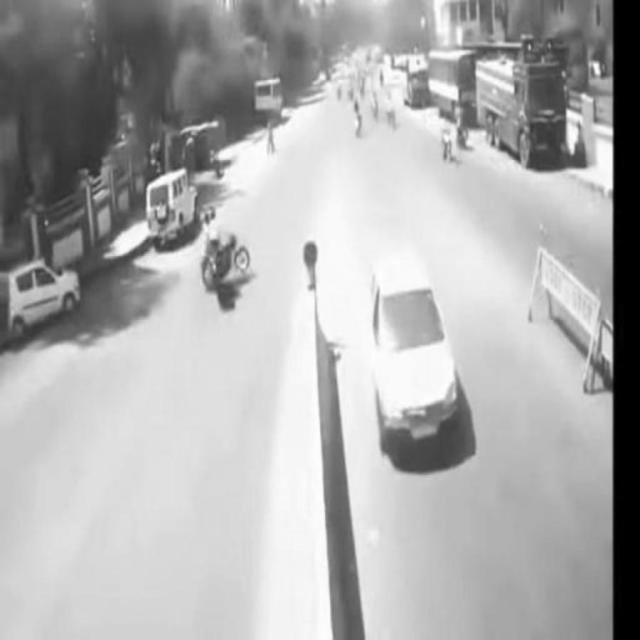accident: (201, 207, 251, 315)
vehicle: (366, 257, 457, 444), (472, 61, 575, 169), (9, 258, 82, 336), (147, 170, 199, 244)
